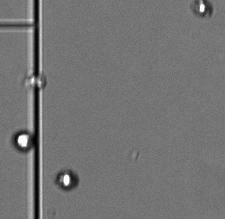Living Cell: (55, 167, 80, 192), (13, 129, 33, 153), (191, 1, 212, 17)
